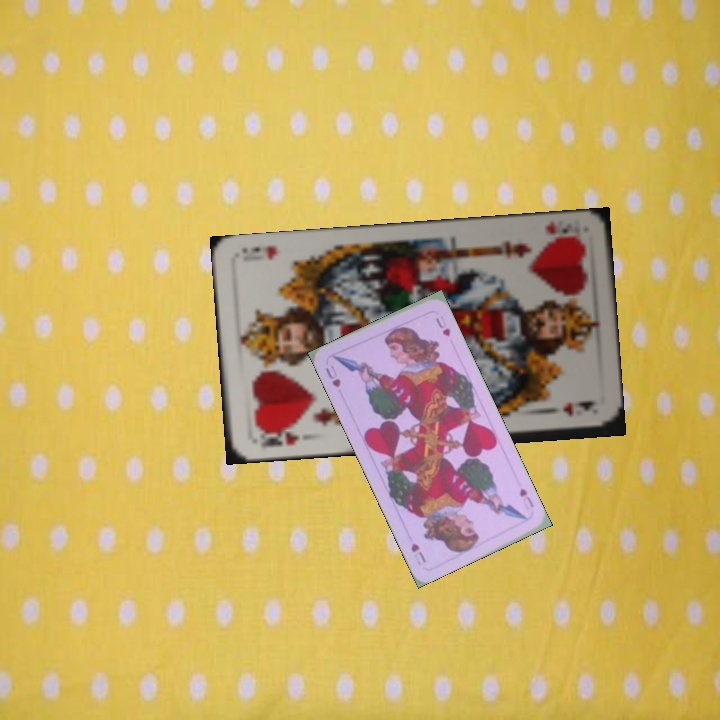HK: (255, 424, 302, 449), (542, 218, 584, 240)
HU: (321, 361, 343, 390), (515, 484, 537, 513)
